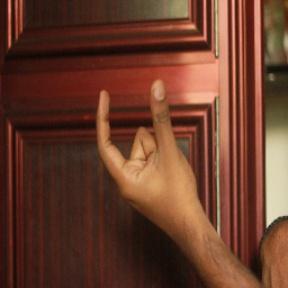U: (88, 74, 192, 207)
